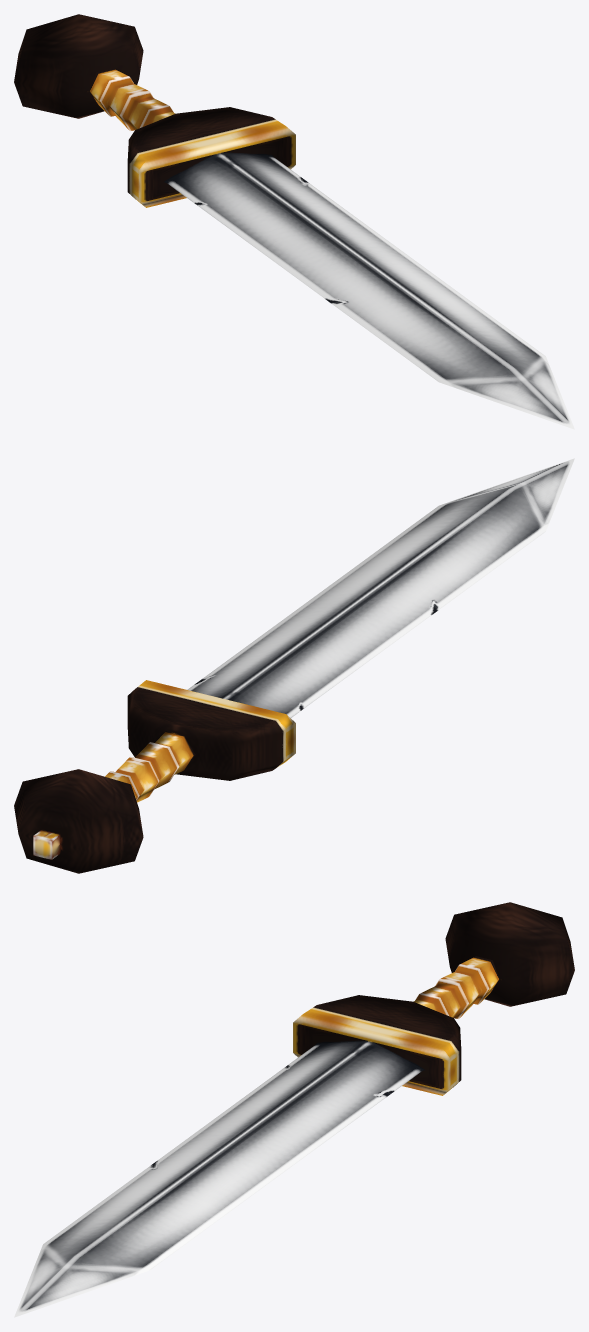
File: SwordB.fbx
The picture shows the model from 3 angles, top to bottom: view 1: azimuth 30°, elevation 25°; view 2: azimuth 150°, elevation 25°; view 3: azimuth 330°, elevation 25°; orthographic projection.
Parts seen in each view (by area): view 1: SwordB; view 2: SwordB; view 3: SwordB.
Boxes of the visible parts, box(x1,y1,x2,y2) form: SwordB: box(14, 14, 574, 429); SwordB: box(14, 458, 574, 873); SwordB: box(14, 902, 574, 1317).
Bounding box in the file's own units: 4.87 × 3.13 × 28.9.
